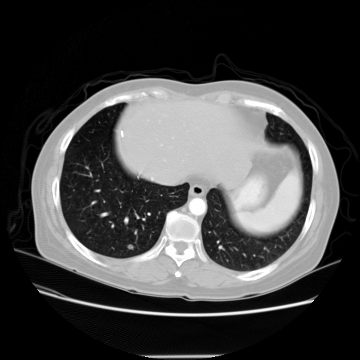nodule: (127, 244, 133, 250)
